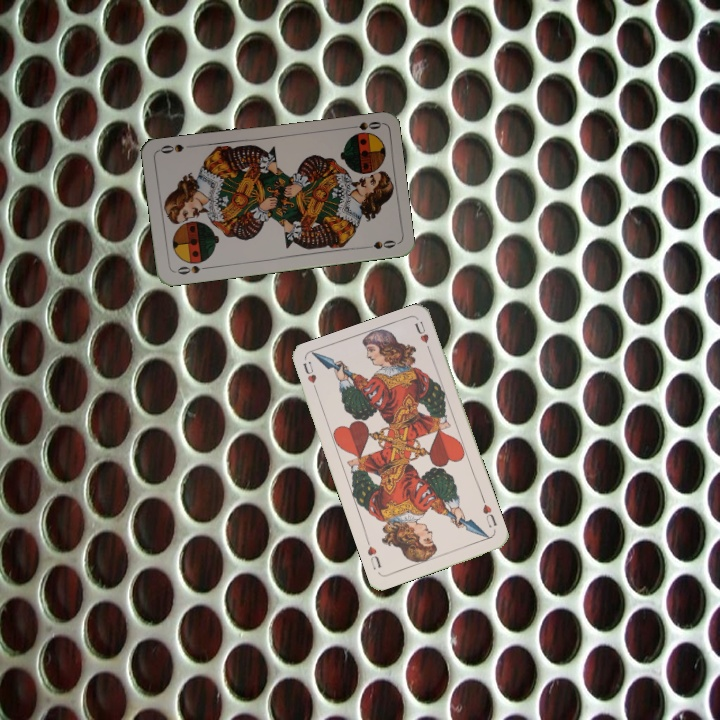HU: (299, 357, 320, 397), (478, 495, 499, 530)
SO: (343, 117, 383, 133), (173, 262, 211, 277)
